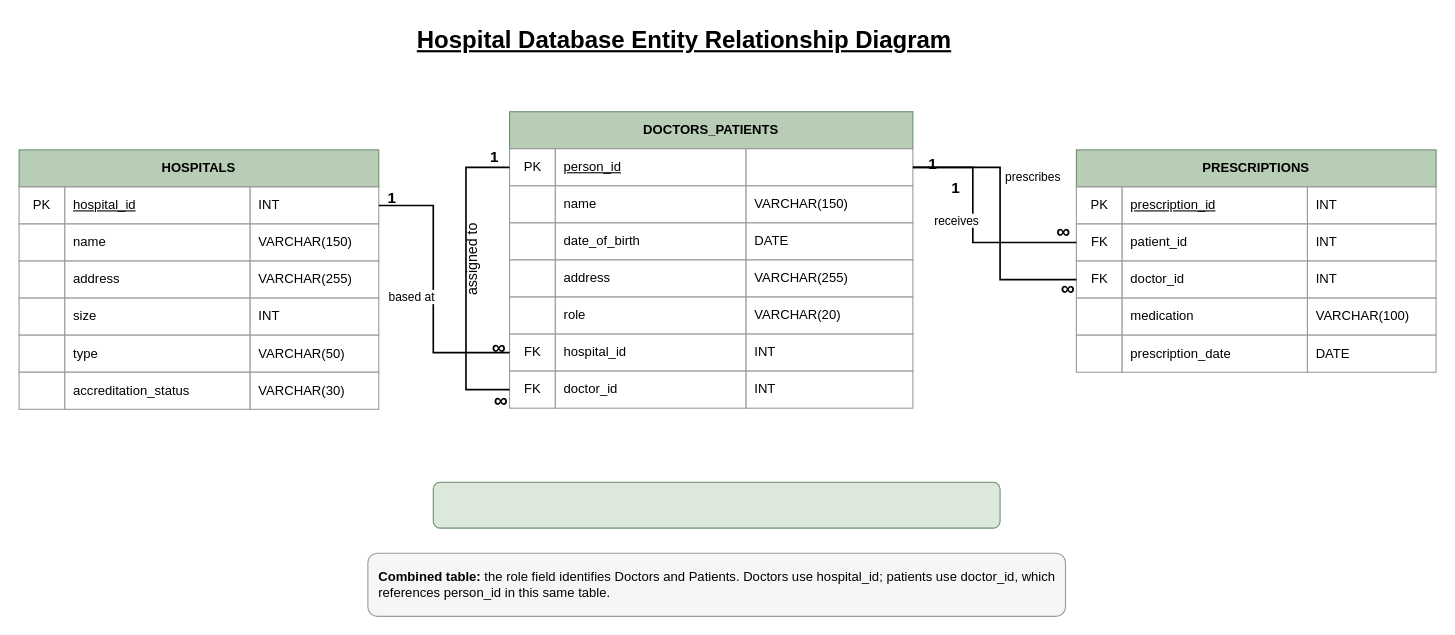
Some shapes in this 1455 by 635 pixel diagram are drawn without their labels. Here are the shapes that lost their labels. From the top down, the centre of each, then its label:
the point at 829,167: INT AUTO_INCREMENT
the point at 716,504: Key: PK = Primary key FK = Foreign key 1—∞ = One-to-many
